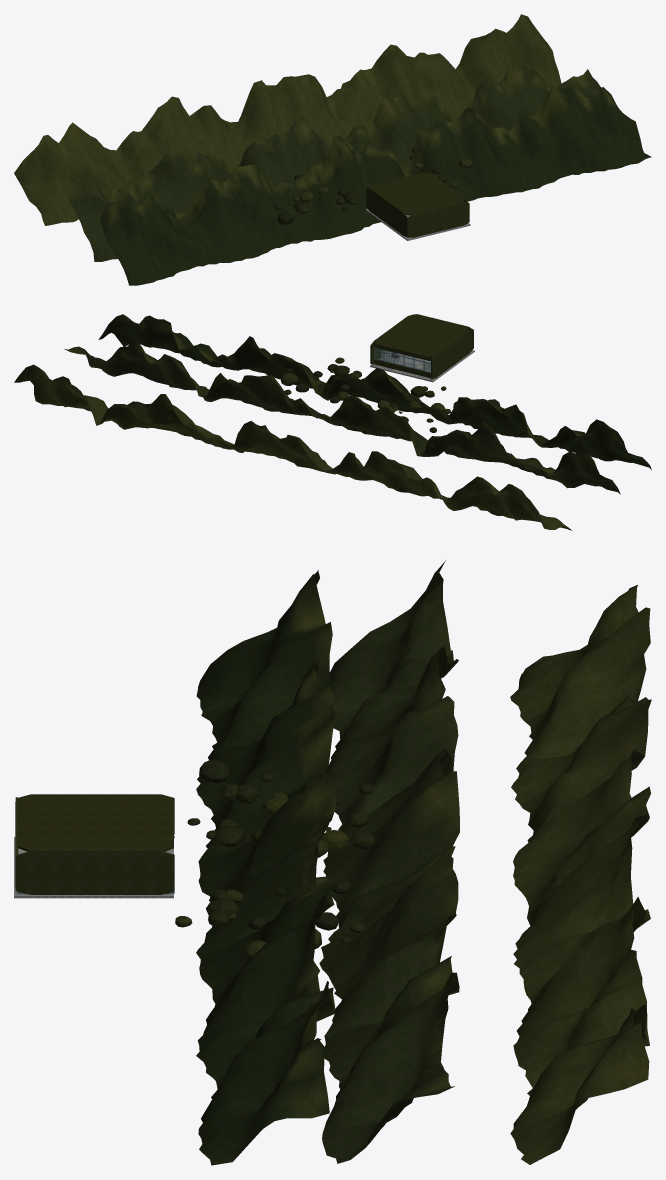
The model's file is station-2.glb.
3 renders of one model, top to bottom at view 1: azimuth 30°, elevation 25°; view 2: azimuth 150°, elevation 25°; view 3: azimuth 270°, elevation 25°, orthographic. The views are drawn at different scales.
Visible parts, largest first — view 1: Layered mountain ridges.002, Workshop ceiling, Workshop entrance wall, Broken surface of the plateau.002, Concrete workshop side walls; view 2: Layered mountain ridges.002, Workshop ceiling, Broken surface of the plateau.002, Concrete workshop side walls, Thin window glazing, Square workshop floor tiles, Surround below the ribbon window; view 3: Layered mountain ridges.002, Workshop ceiling, Concrete workshop side walls, Broken surface of the plateau.002.
Boxes of the visible parts, x1,y1,x2,y2 form: Layered mountain ridges.002: (14, 14, 651, 285); Workshop ceiling: (370, 172, 464, 215); Workshop entrance wall: (407, 202, 469, 237); Broken surface of the plateau.002: (268, 147, 472, 224); Concrete workshop side walls: (366, 173, 468, 236); Layered mountain ridges.002: (14, 314, 651, 530); Workshop ceiling: (374, 314, 468, 357); Broken surface of the plateau.002: (280, 357, 500, 432); Concrete workshop side walls: (370, 315, 472, 378); Thin window glazing: (375, 348, 430, 371); Square workshop floor tiles: (373, 350, 472, 379); Surround below the ribbon window: (374, 359, 430, 377); Layered mountain ridges.002: (196, 560, 651, 1165); Workshop ceiling: (18, 794, 173, 851); Concrete workshop side walls: (18, 794, 174, 894); Broken surface of the plateau.002: (175, 759, 375, 958).
Bounding box in the file's own units: 103 × 12.66 × 56.52.
11 materials, 3 textured.
